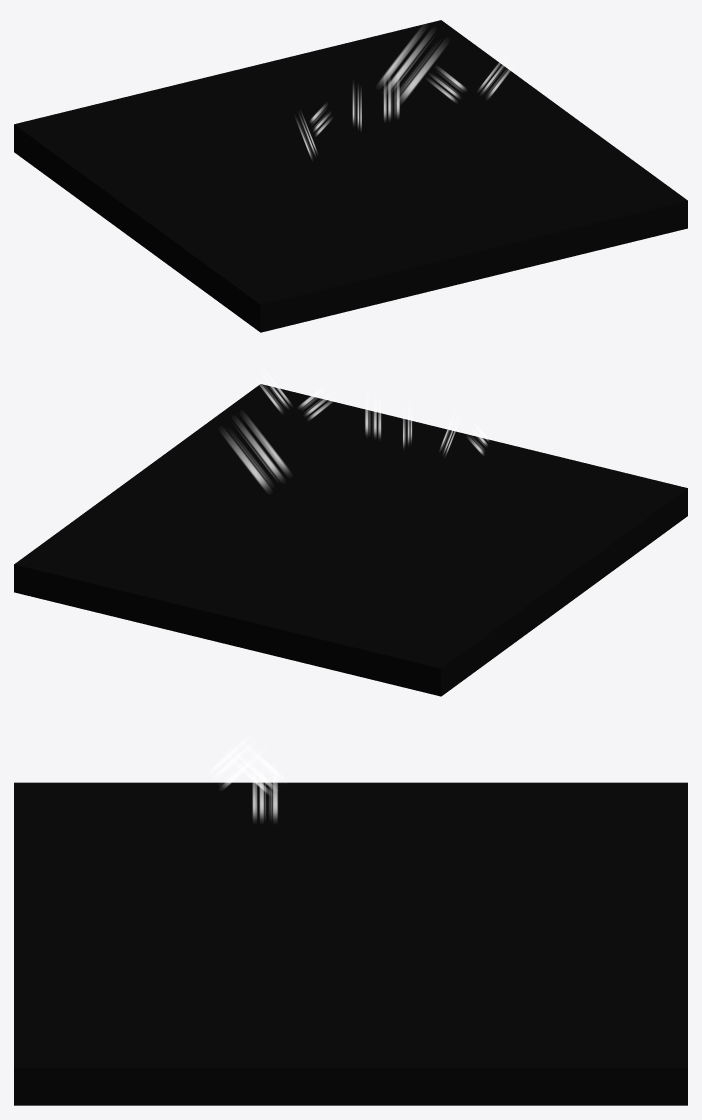
Rendered from tijiguang.glb.
3 views of the same model, one above another, from view 1: azimuth 30°, elevation 25°; view 2: azimuth 150°, elevation 25°; view 3: azimuth 270°, elevation 25° (orthographic). The views are drawn at different scales.
Parts seen in each view (by area): view 1: 平面, tijiguang.005; view 2: 平面, tijiguang.005; view 3: 平面, tijiguang.003, tijiguang.004, tijiguang.007.
Boxes of the visible parts, x1,y1,x2,y2 form: 平面: (14,20,687,332); tijiguang.005: (379,30,443,101); 平面: (14,384,687,696); tijiguang.005: (225,418,289,489); 平面: (14,782,687,1105); tijiguang.003: (252,767,277,819); tijiguang.004: (228,742,284,793); tijiguang.007: (208,736,264,787).
Size of the model in its own units: 145 by 45.74 by 145.
2 materials, 1 textured.
